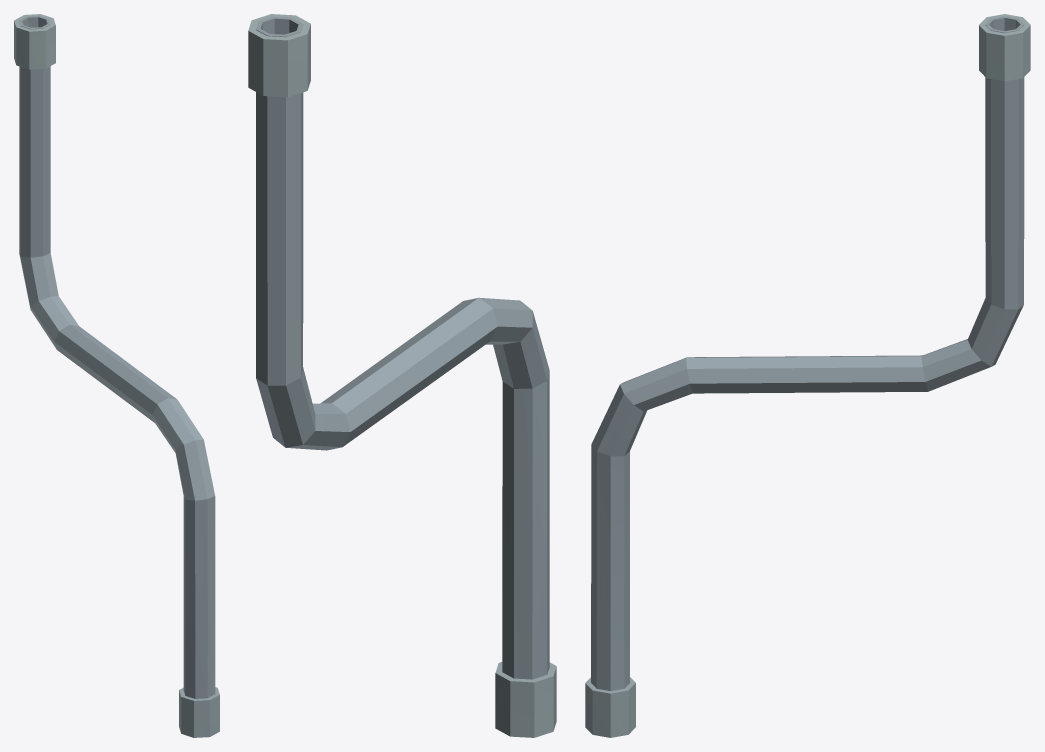
The model's file is Pipe2.fbx.
3 views of the same model, side by side, from view 1: azimuth 30°, elevation 25°; view 2: azimuth 150°, elevation 25°; view 3: azimuth 270°, elevation 25° (orthographic). The views are drawn at different scales.
Visible parts, largest first — view 1: Plane; view 2: Plane; view 3: Plane.
Boxes of the visible parts, box(x1,y1,x2,y2) form: Plane: box(14, 14, 219, 737); Plane: box(248, 14, 556, 737); Plane: box(585, 14, 1030, 737).
Bounding box in the file's own units: 26.41 × 395 × 227.
